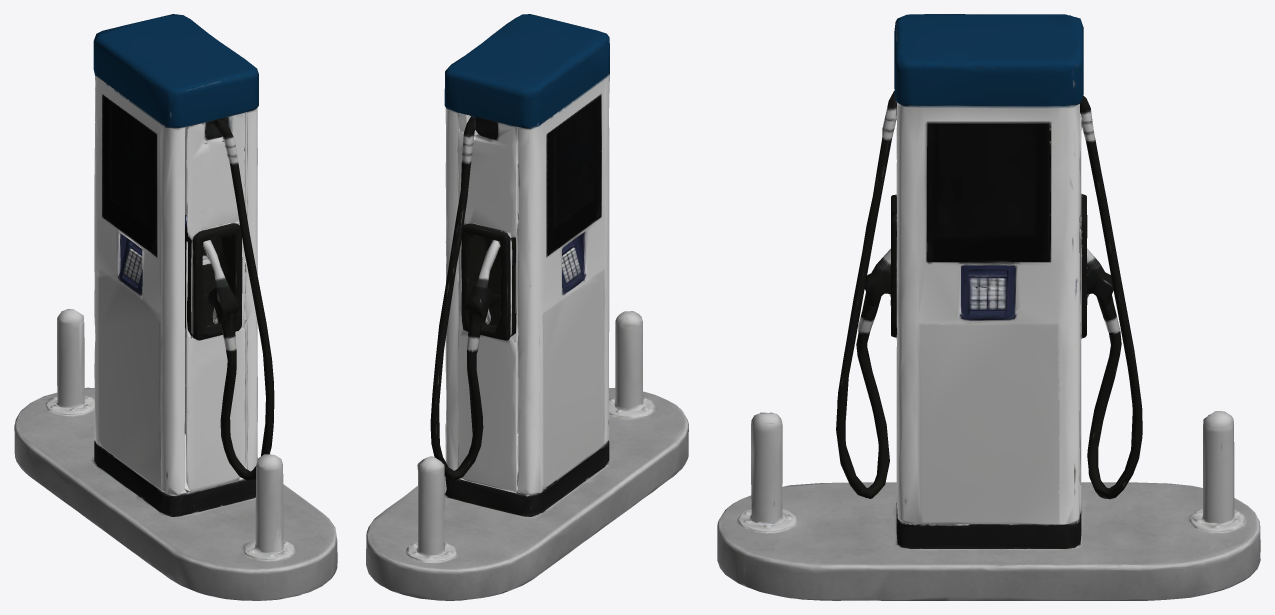
Rendered from pump.glb.
3 renders of one model, left to right at view 1: azimuth 30°, elevation 25°; view 2: azimuth 150°, elevation 25°; view 3: azimuth 270°, elevation 25°, orthographic. The views are drawn at different scales.
Size of the model in its own units: 0.3518 by 1 by 0.9462.
Materials: 1 (1 with a texture image).
